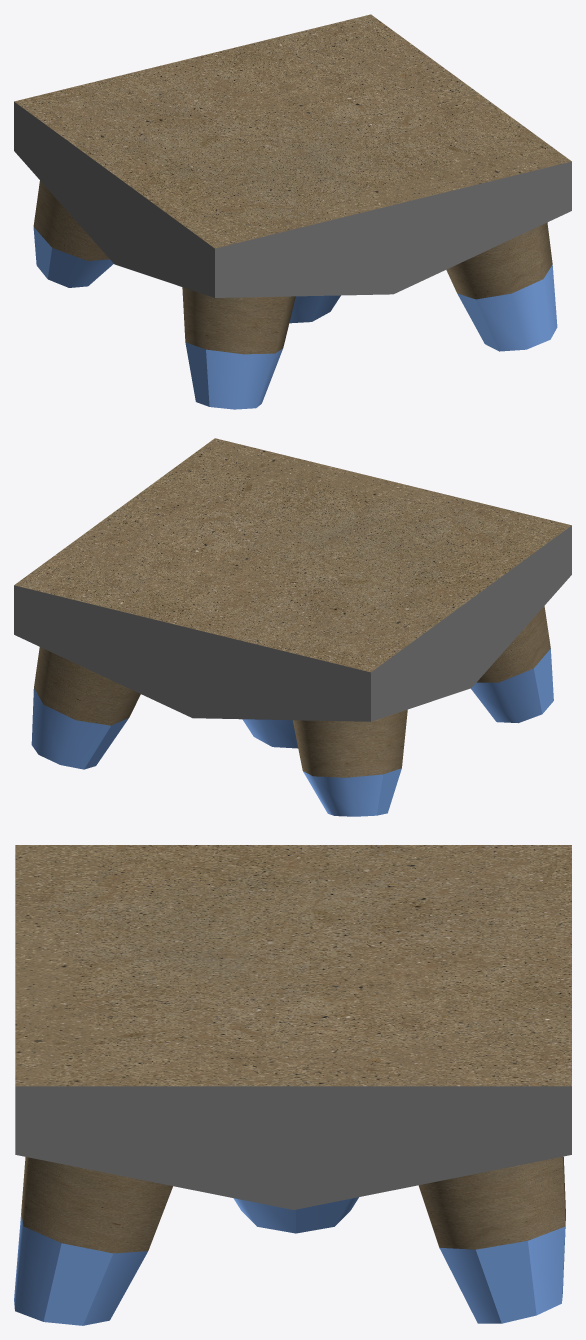
File: Platform_Square_2.fbx
3 views of the same model, one above another, from view 1: azimuth 30°, elevation 25°; view 2: azimuth 150°, elevation 25°; view 3: azimuth 270°, elevation 25° (orthographic). The views are drawn at different scales.
Visible parts, largest first — view 1: Platdorm_Square_High; view 2: Platdorm_Square_High; view 3: Platdorm_Square_High.
Part boxes in pixels (<box>): Platdorm_Square_High: <box>14,14,571,409</box>; Platdorm_Square_High: <box>14,438,571,816</box>; Platdorm_Square_High: <box>14,845,571,1325</box>.
Bounding box in the file's own units: 12.06 × 5.99 × 11.79.
